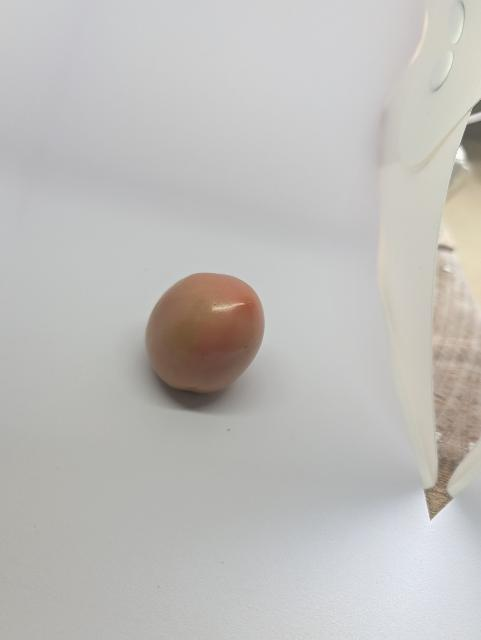turning: (137, 263, 275, 402)
